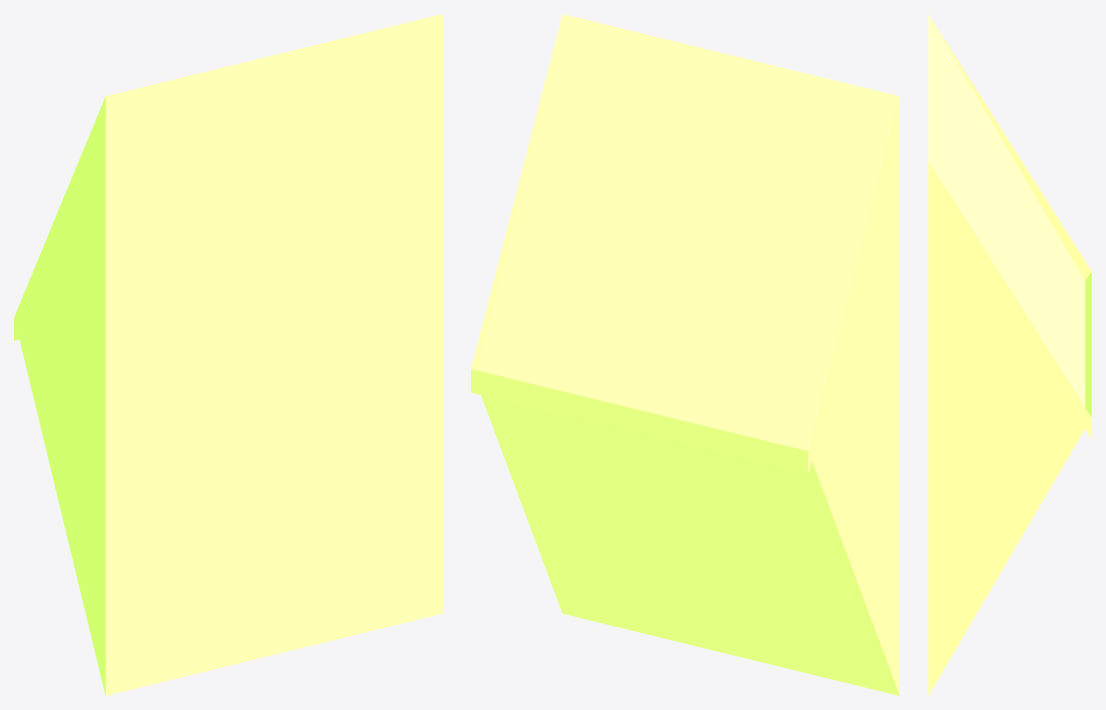
3 views of the same model, side by side, from view 1: azimuth 30°, elevation 25°; view 2: azimuth 150°, elevation 25°; view 3: azimuth 270°, elevation 25° (orthographic). The views are drawn at different scales.
Parts seen in each view (by area): view 1: Cube; view 2: Cube; view 3: Cube.
Part boxes in pixels (bbox=[...]): Cube: bbox=[14, 14, 442, 695]; Cube: bbox=[471, 14, 899, 695]; Cube: bbox=[928, 14, 1091, 695].
Bounding box in the file's own units: 2 × 3.4 × 0.9389.
